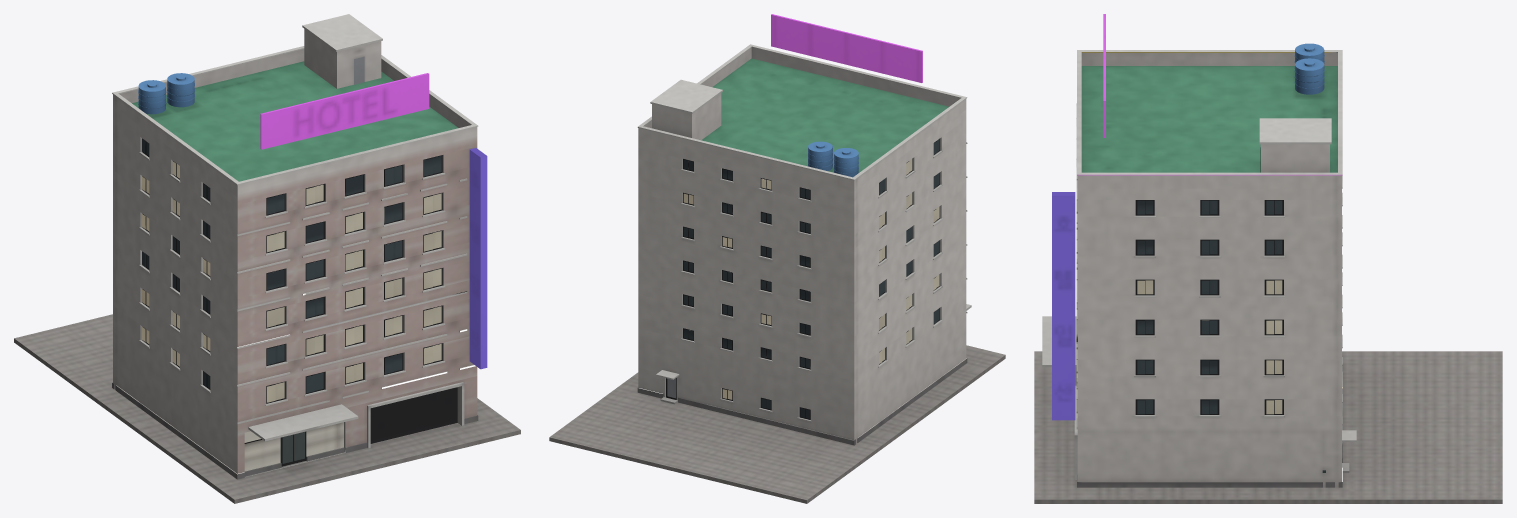
The model's file is IlsanMotel01_LOD2.fbx.
3 views of the same model, side by side, from view 1: azimuth 30°, elevation 25°; view 2: azimuth 150°, elevation 25°; view 3: azimuth 270°, elevation 25° (orthographic). The views are drawn at different scales.
Parts seen in each view (by area): view 1: IlsanMotel01_LOD2; view 2: IlsanMotel01_LOD2; view 3: IlsanMotel01_LOD2.
Part boxes in pixels (<box>): IlsanMotel01_LOD2: <box>14,14,520,503</box>; IlsanMotel01_LOD2: <box>549,14,1005,503</box>; IlsanMotel01_LOD2: <box>1034,14,1502,503</box>.
Size of the model in its own units: 23.9 by 28 by 31.9.
Materials: 1 (1 with a texture image).
